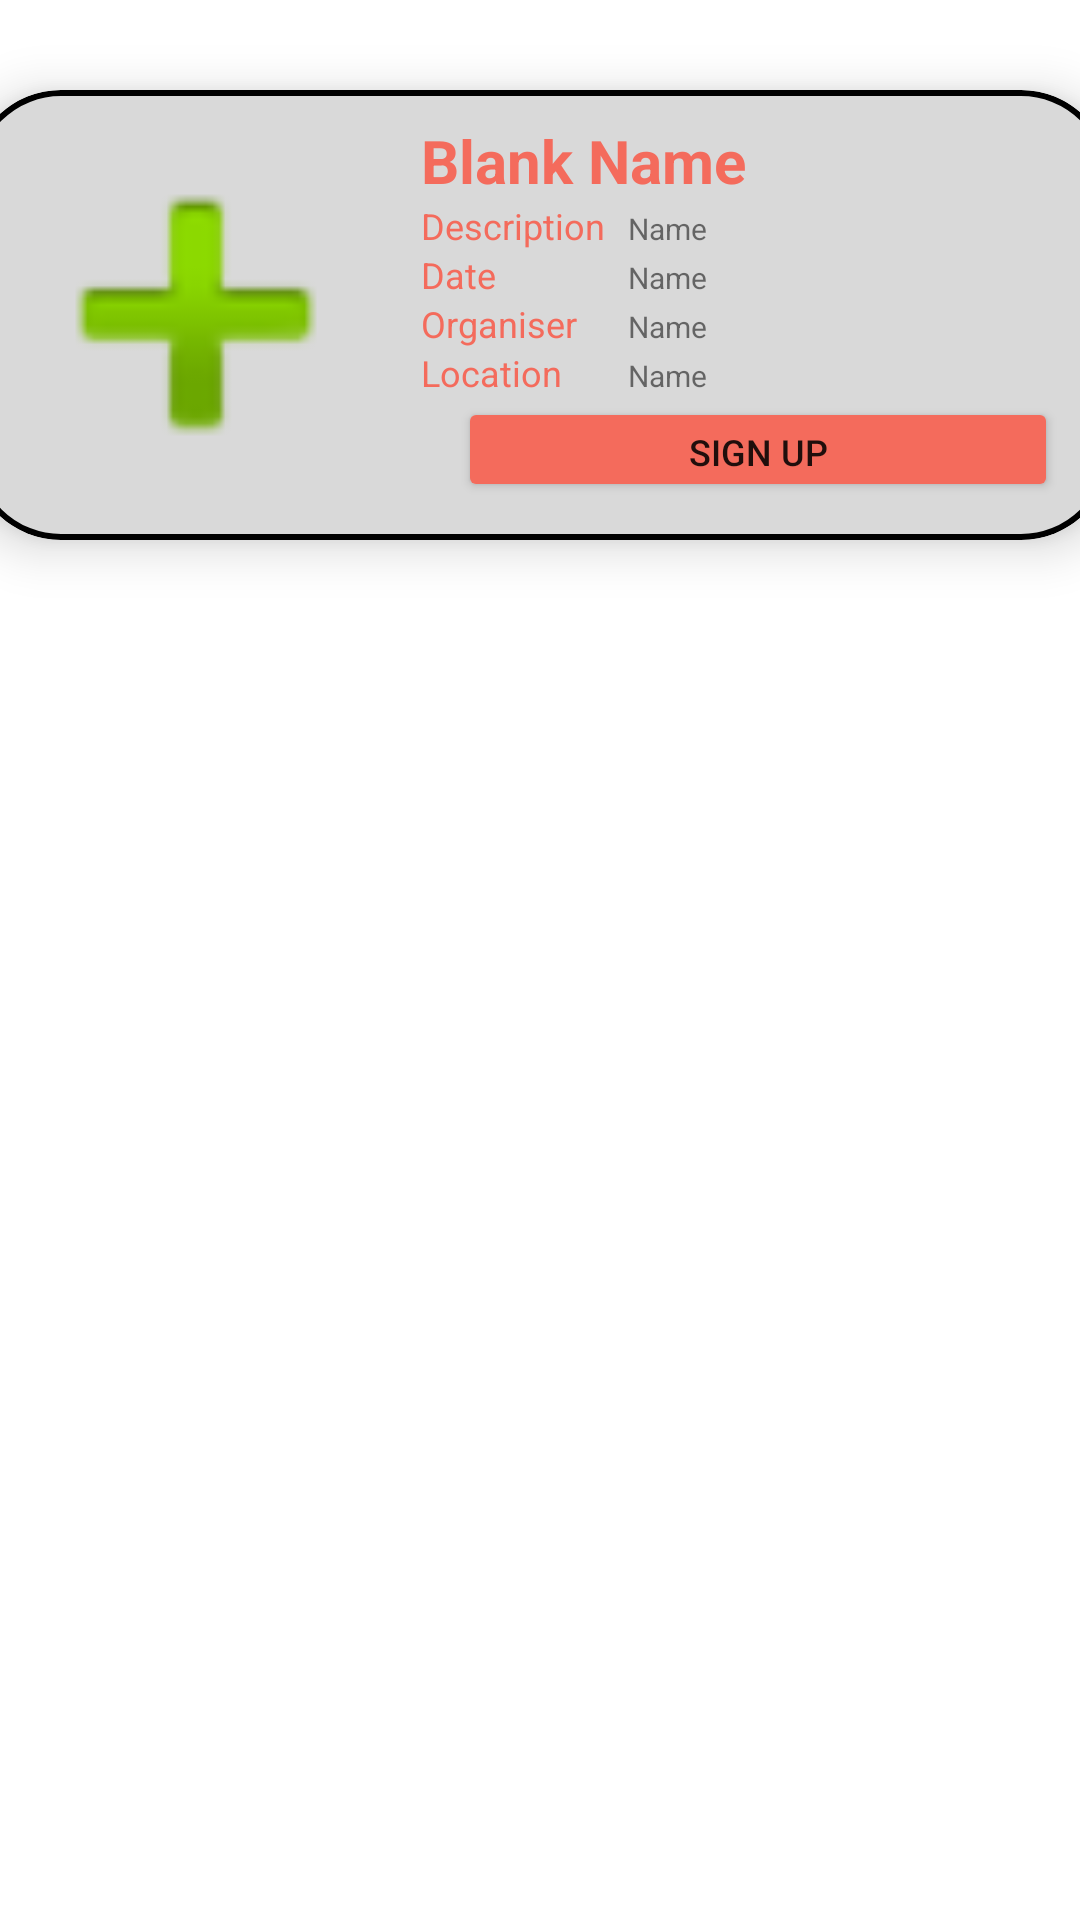

Where to tap for icons on this 1080w x 1920h app screen, as [x,y]:
add: [196,315]
